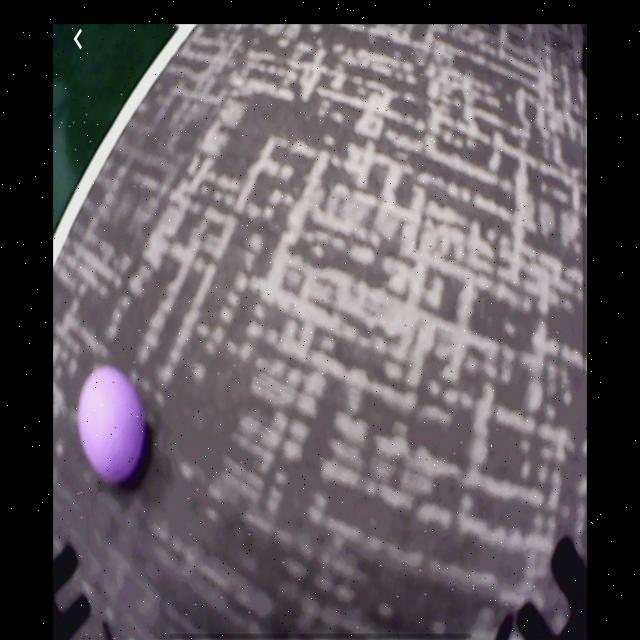ball: (79, 368, 145, 481)
